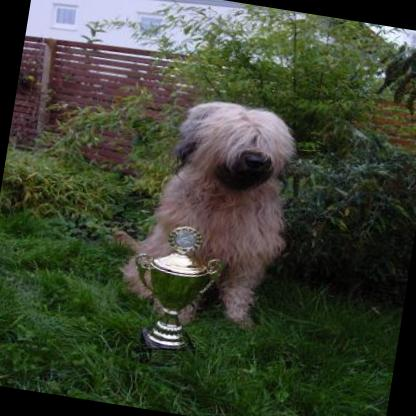briard: (111, 87, 301, 334)
